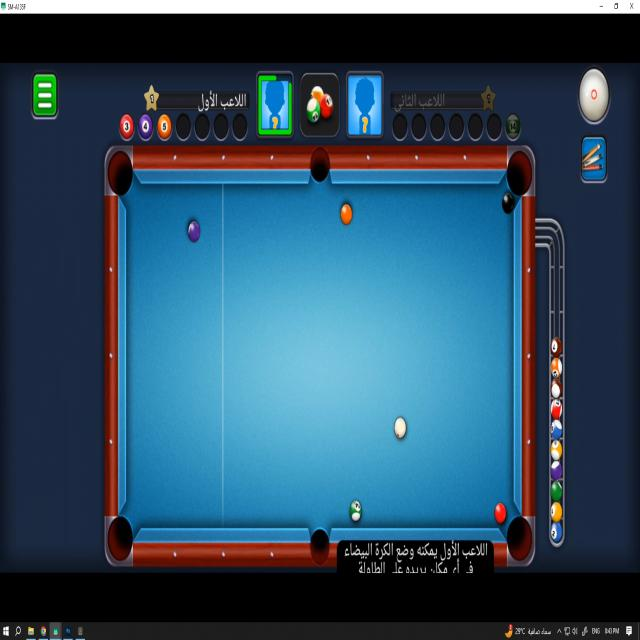object_ball: (502, 192, 514, 213), (188, 222, 200, 242), (341, 204, 352, 225), (495, 503, 506, 524), (350, 501, 361, 521)
white_cue_ball: (394, 418, 406, 438)
